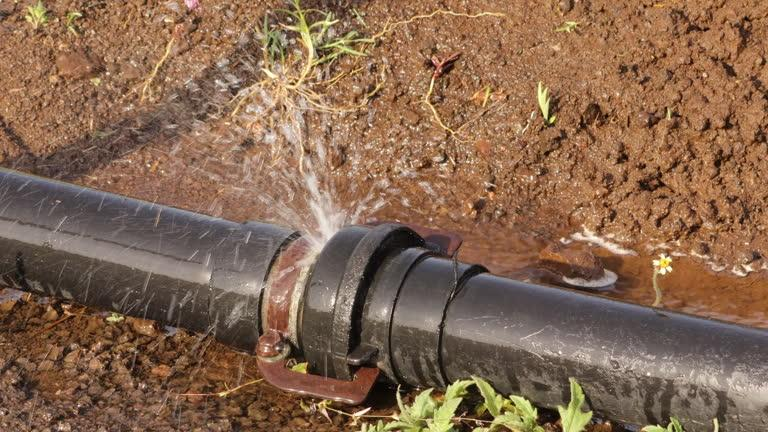pipe burst: (188, 57, 436, 272)
water accumulation: (375, 211, 768, 335)
